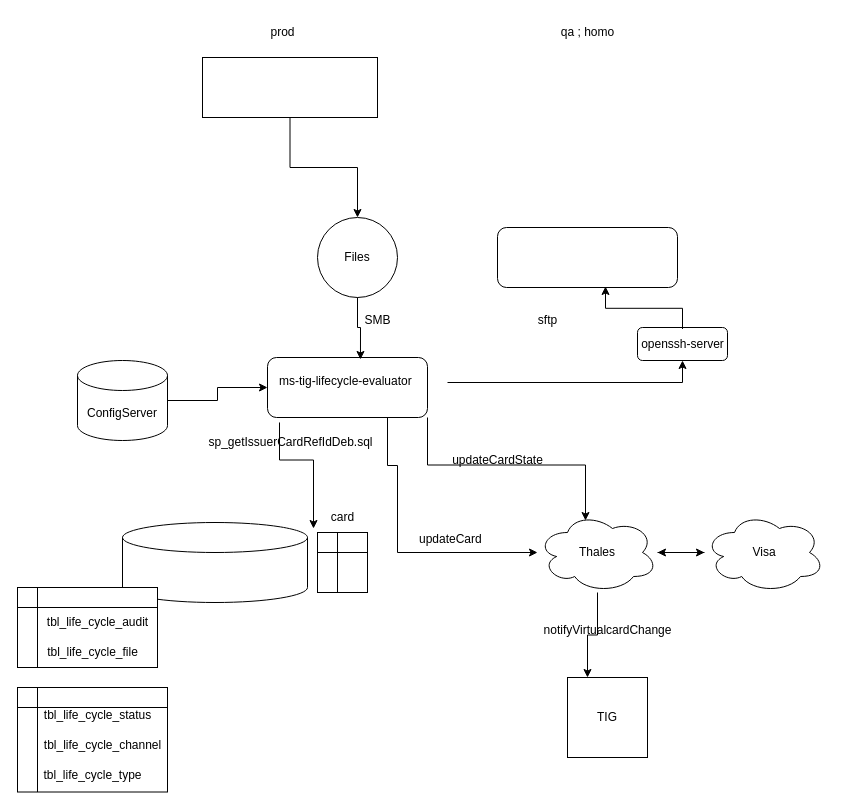
This 842x809 diagram has some shape labels left out. The shapes that lost their labels are listed below. From the top down, each one's centre as x and y in pixels, then its label:
(x=290, y=87): Channels
(x=587, y=257): /opt/prisma/container-data/config/sftp
(x=215, y=562): api_tokenization
